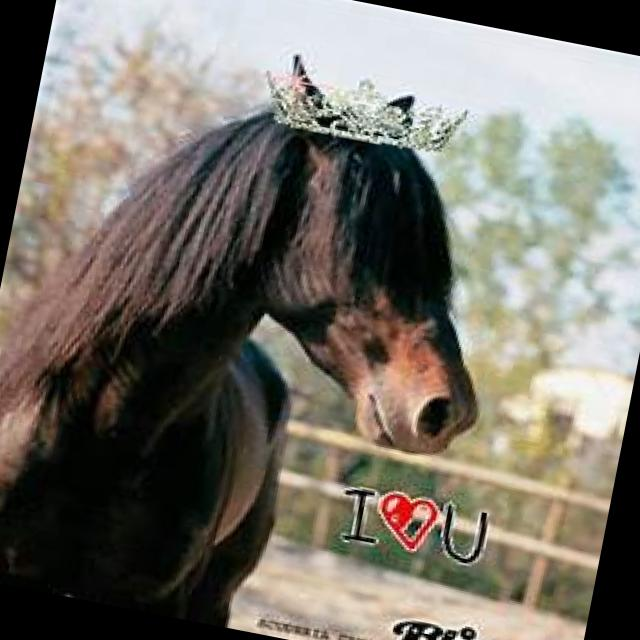horse: (0, 3, 541, 640)
